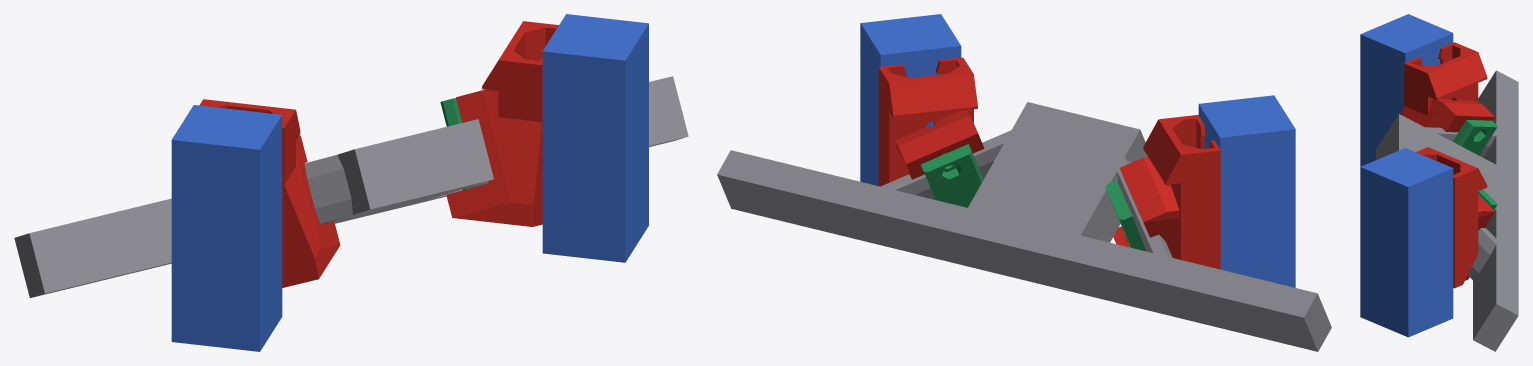
The model's file is assembly_m16.obj.
3 renders of one model, left to right at view 1: azimuth 30°, elevation 25°; view 2: azimuth 150°, elevation 25°; view 3: azimuth 270°, elevation 25°, orthographic. The views are drawn at different scales.
Visible parts, largest first — view 1: left_light_placeholder, right_light_placeholder, hanger_schematic, right_saddle, left_saddle; view 2: hanger_schematic, left_light_placeholder, left_saddle, right_saddle, right_light_placeholder, right_keeper, left_keeper; view 3: right_light_placeholder, hanger_schematic, left_light_placeholder, left_saddle, right_saddle, left_keeper, right_keeper.
Boxes of the visible parts, left/top/right/bottom form: left_light_placeholder: left=171, top=105, right=282, bottom=351; right_light_placeholder: left=542, top=14, right=648, bottom=262; hanger_schematic: left=14, top=76, right=688, bottom=297; right_saddle: left=446, top=21, right=558, bottom=226; left_saddle: left=199, top=99, right=340, bottom=287; hanger_schematic: left=717, top=102, right=1331, bottom=351; left_light_placeholder: left=1198, top=95, right=1295, bottom=287; left_saddle: left=1113, top=115, right=1220, bottom=269; right_saddle: left=878, top=57, right=984, bottom=186; right_light_placeholder: left=860, top=14, right=961, bottom=185; right_keeper: left=921, top=144, right=983, bottom=207; left_keeper: left=1105, top=180, right=1146, bottom=251; right_light_placeholder: left=1360, top=148, right=1453, bottom=337; hanger_schematic: left=1376, top=70, right=1518, bottom=351; left_light_placeholder: left=1360, top=14, right=1453, bottom=166; left_saddle: left=1401, top=42, right=1494, bottom=132; right_saddle: left=1416, top=147, right=1494, bottom=288; left_keeper: left=1452, top=120, right=1497, bottom=155; right_keeper: left=1478, top=189, right=1497, bottom=209.
Bounding box in the file's own units: 260 × 78 × 74.52.
